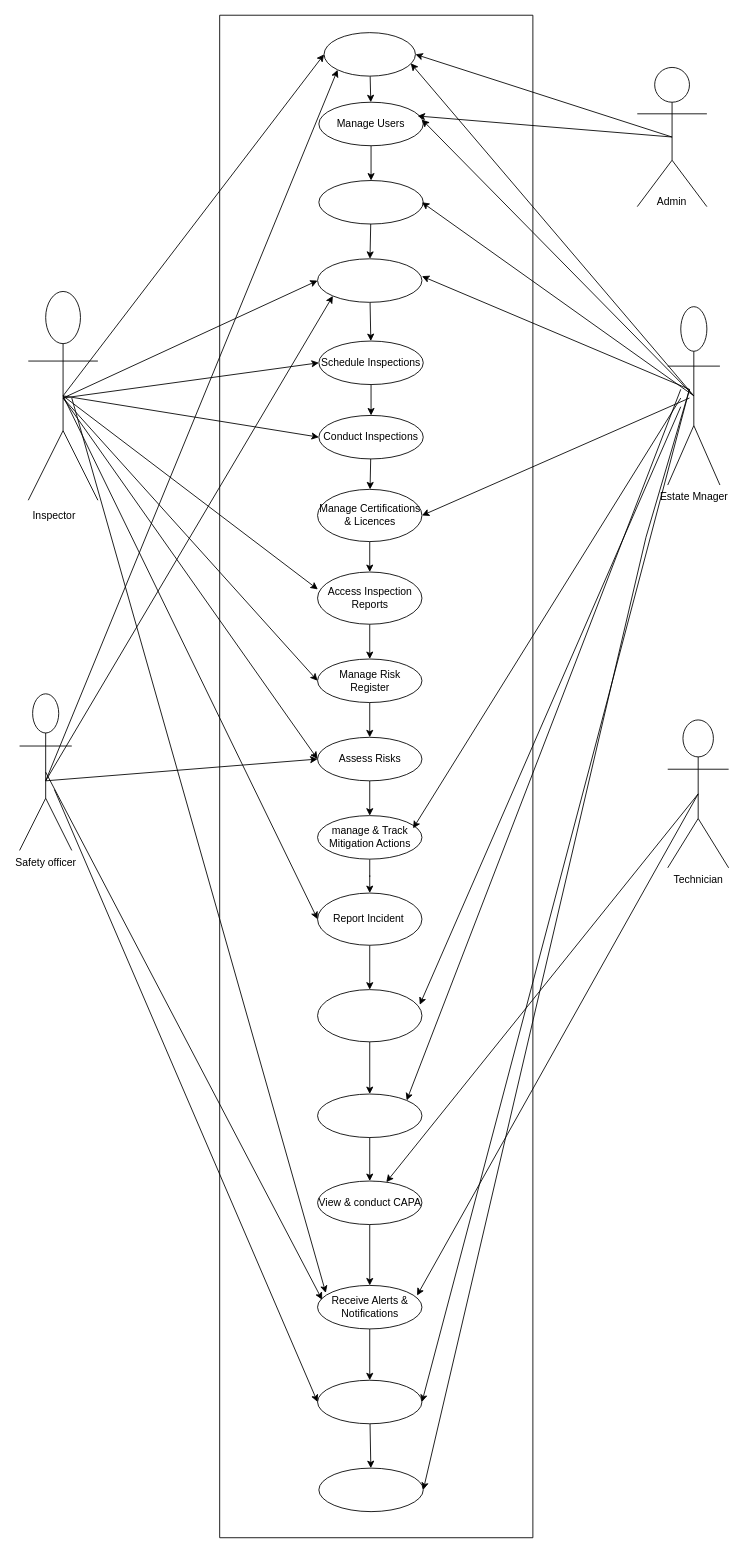
Some shapes in this 744 by 1553 pixel diagram are drawn without their labels. Each missing label, with the box of its shape:
Assign Corrective Actions: (317, 1093, 422, 1138)
Generate Reports: (317, 1379, 422, 1424)
Manage Assets: (318, 180, 423, 224)
Manage CAPA Actions: (317, 989, 422, 1042)
Register/Login: (323, 32, 415, 76)
Track Compliance Status: (317, 258, 422, 302)
View Dashboard: (318, 1467, 423, 1512)
